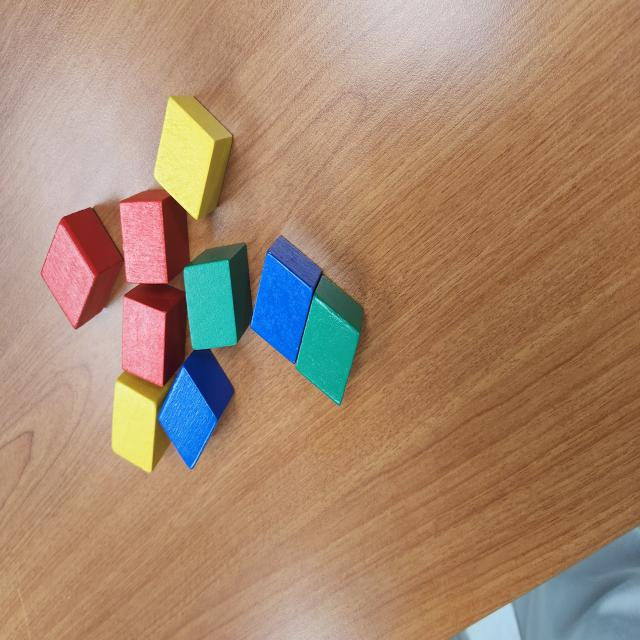blue: (158, 349, 235, 470), (251, 236, 323, 364)
green: (294, 274, 364, 406), (182, 242, 252, 350)
red: (41, 207, 125, 332), (118, 188, 191, 284), (122, 284, 188, 387)
yellow: (154, 93, 233, 222), (111, 369, 178, 474)
